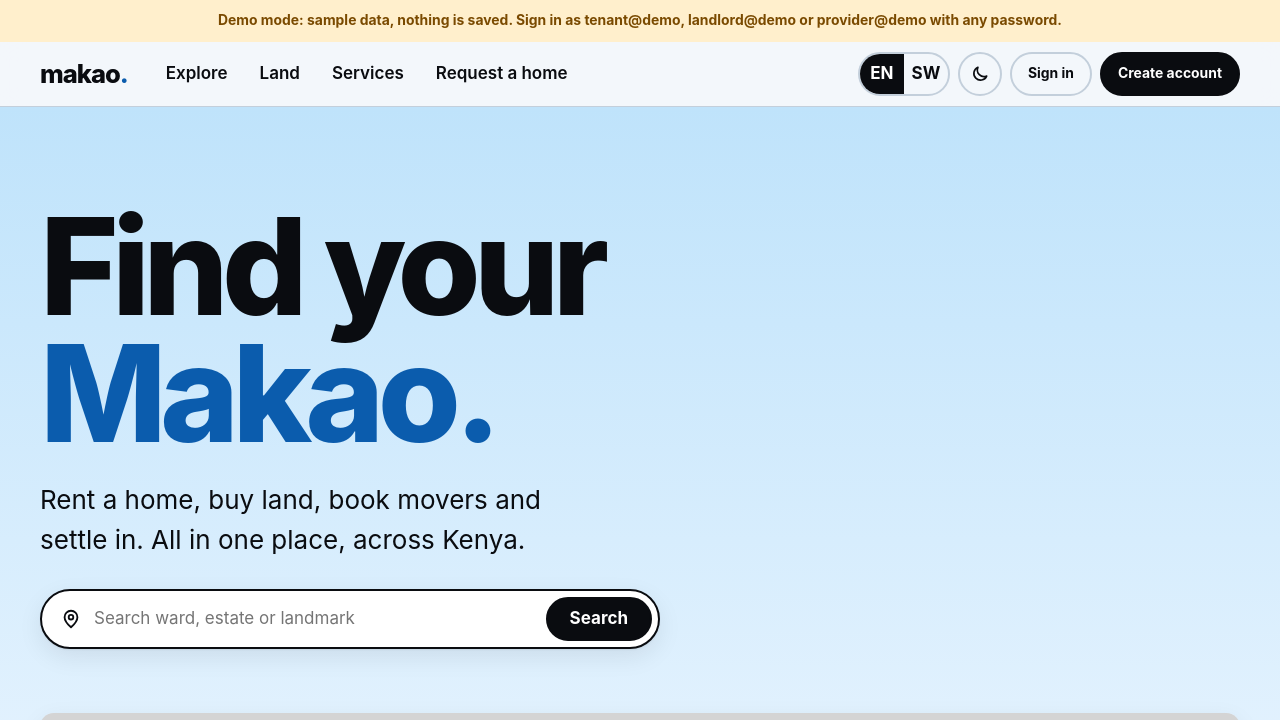
Test: language and theme › theme toggle is a labelled toggle button
Click the button named "Switch theme": (980, 74) [958,52,1002,96]
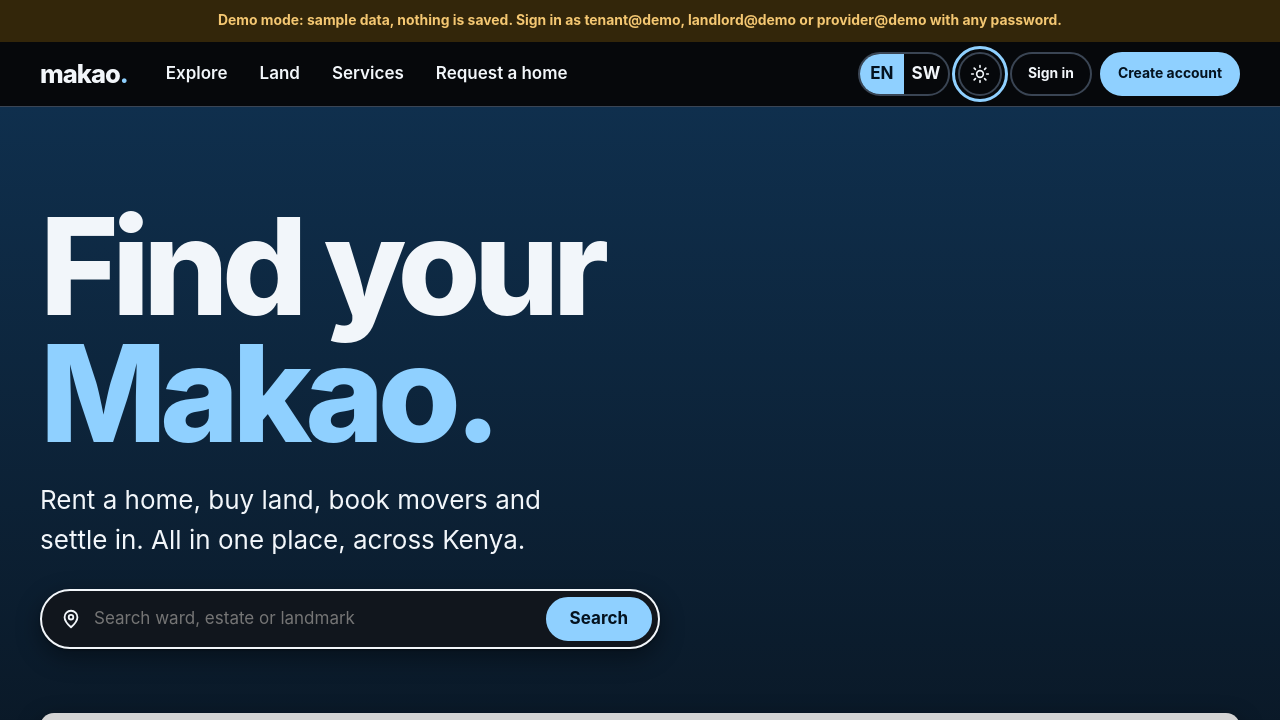
Result: the button named "Switch theme" has attribute aria-pressed at [958,52,1002,96]
